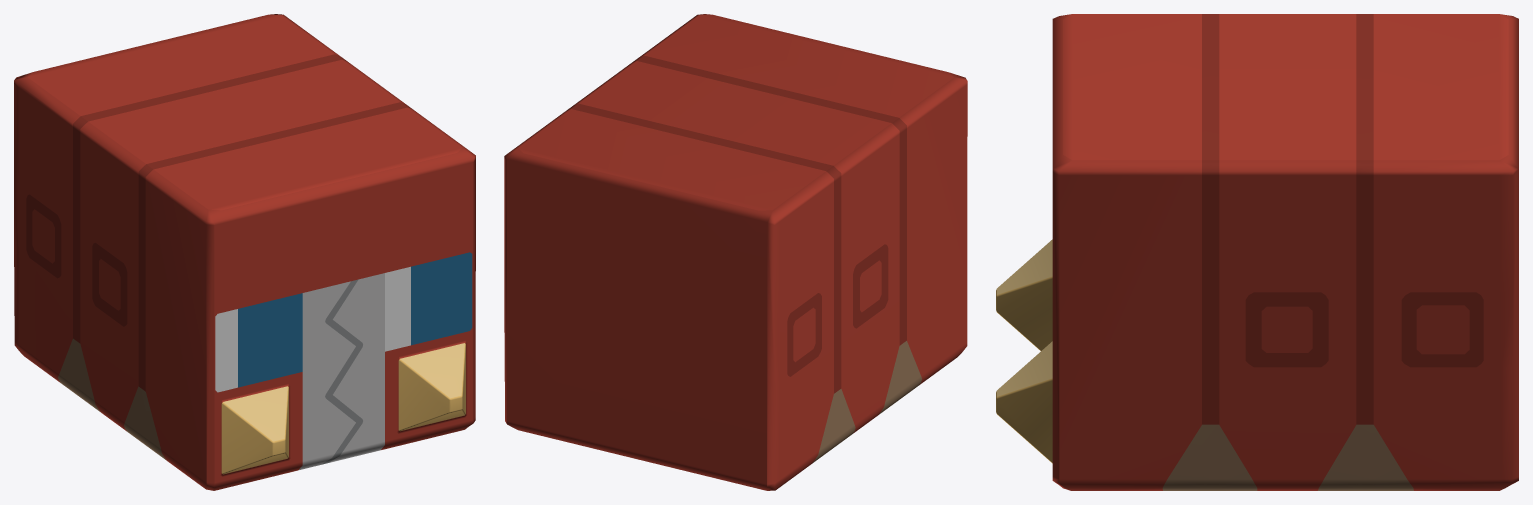
The picture shows the model from 3 angles, left to right: view 1: azimuth 30°, elevation 25°; view 2: azimuth 150°, elevation 25°; view 3: azimuth 270°, elevation 25°; orthographic projection. The views are drawn at different scales.
Parts seen in each view (by area): view 1: model; view 2: model; view 3: model.
Part boxes in pixels (x1,y1,x2,y2): model: (14, 14, 475, 490); model: (504, 14, 967, 490); model: (996, 14, 1518, 490).
Bounding box in the file's own units: 1.36 × 1.35 × 1.94.
